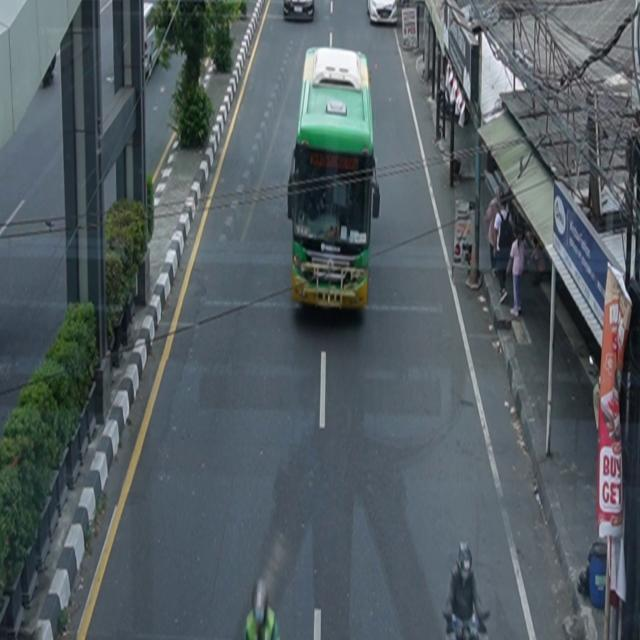bus: (288, 46, 382, 314)
car: (367, 1, 398, 26), (283, 1, 315, 22)
